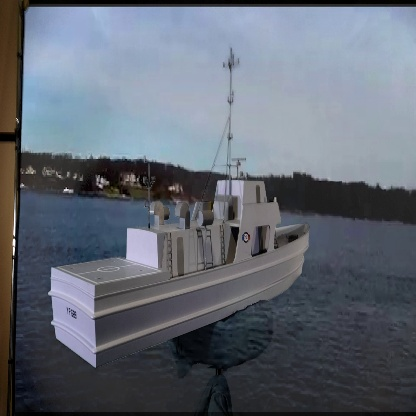YP689: (48, 45, 311, 369)
